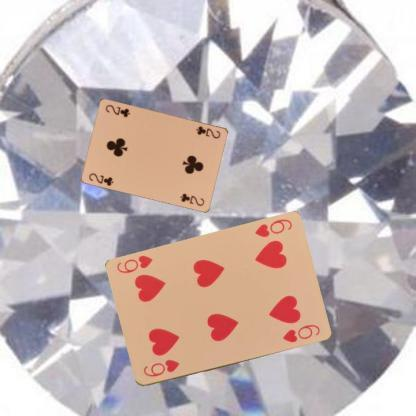2c: (86, 171, 116, 188), (193, 123, 222, 140)
6h: (251, 217, 294, 240), (140, 357, 180, 379)
